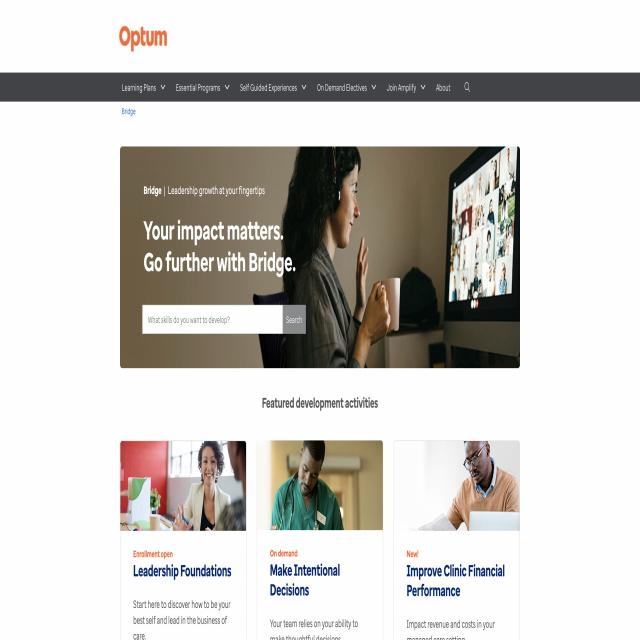Logo: (118, 16, 198, 61)
Navigation: (116, 66, 478, 105)
